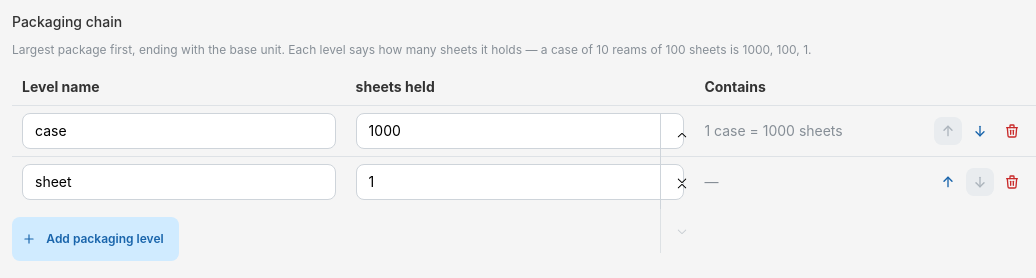
Test case: PackagingChainEditor › recomputes the ratio as a size is edited
Expected: the text with test id "packaging-row-per-parent-0" reads "1 case = 1000 sheets", [704,122,843,139]
Replace the text in the field with test id "packaging-row-base-units-0" with "12". click: {"x": 520, "y": 131}
box: [356,113,684,149]
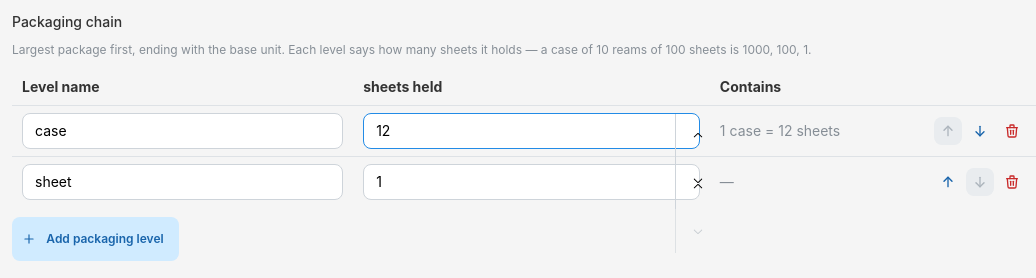
Result: the text with test id "packaging-row-per-parent-0" reads "1 case = 12 sheets" at [720,122,840,139]
